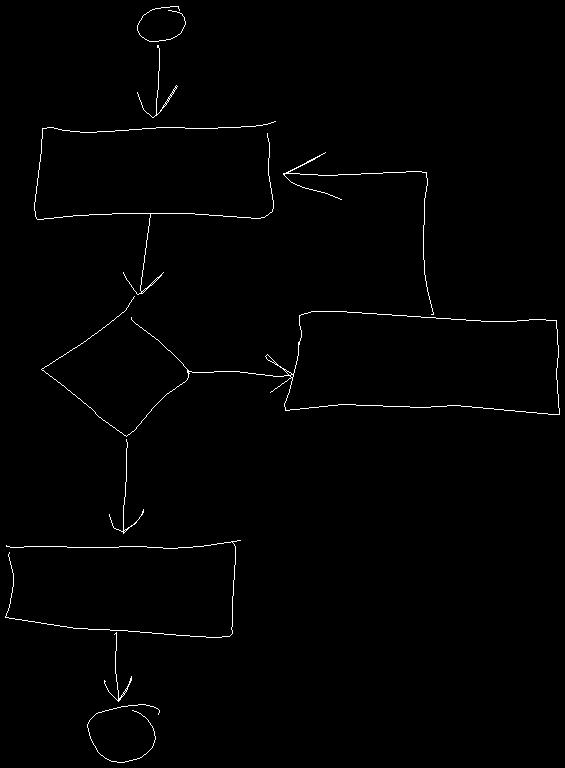arrow: (283, 152, 433, 314), (187, 354, 292, 392), (123, 214, 163, 294), (109, 439, 143, 533), (137, 45, 177, 117), (104, 632, 131, 701)
connection: (87, 704, 159, 762), (137, 6, 185, 41)
decision: (41, 296, 188, 436)
process: (284, 311, 559, 414), (34, 121, 275, 219), (5, 540, 240, 637)
